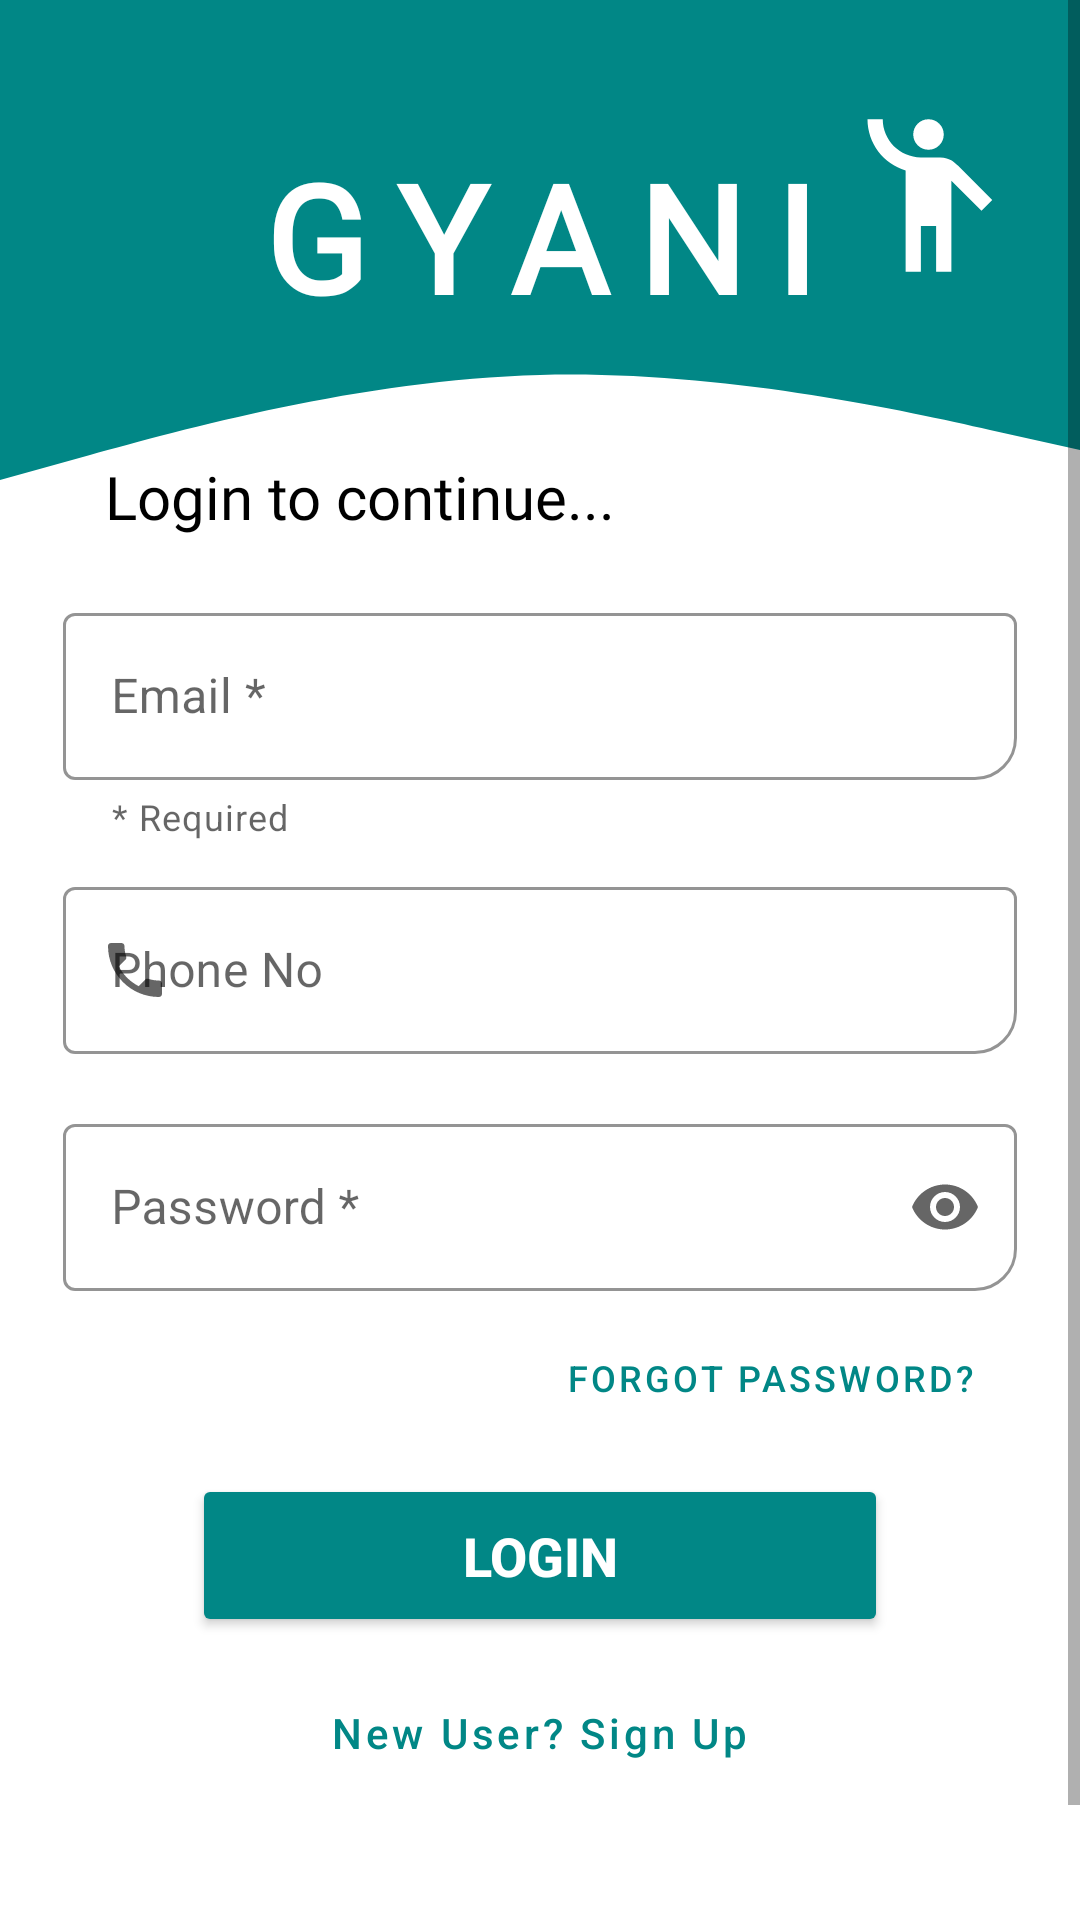

Named icons in this screenshot (1080 × 1920) and their bounding boxes, (x1, y1, x2, y2):
emoji people: (867, 119, 992, 272)
